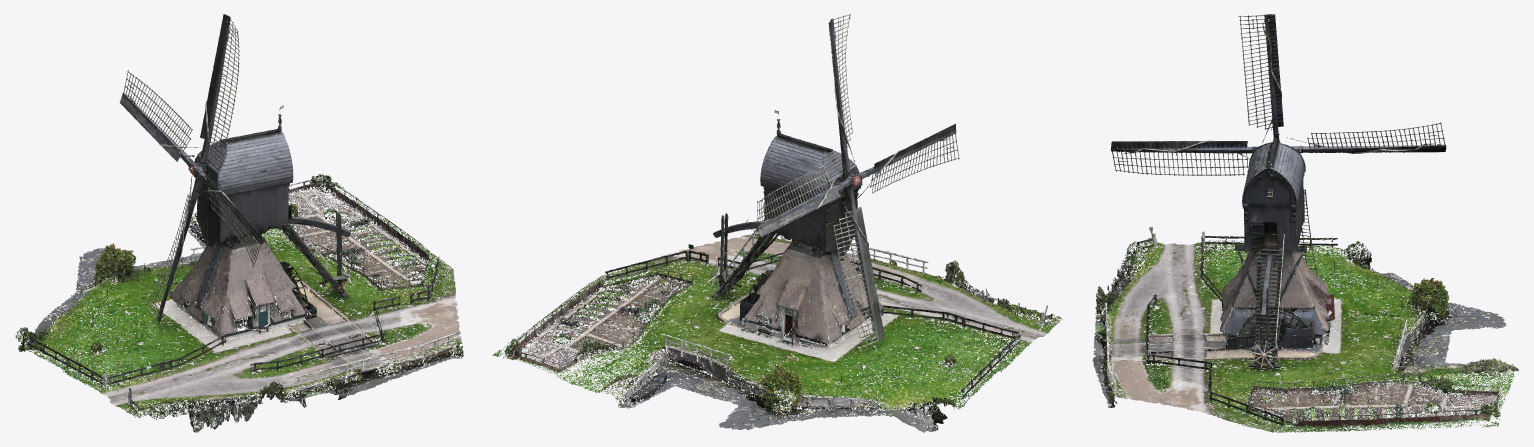
Rendered from westermolen.glb.
3 views of the same model, side by side, from view 1: azimuth 30°, elevation 25°; view 2: azimuth 150°, elevation 25°; view 3: azimuth 270°, elevation 25° (orthographic).
Visible parts, largest first — view 1: Base, Top, Sails; view 2: Base, Sails, Top; view 3: Base, Top, Sails.
Part boxes in pixels (x1,y1,x2,y2): Base: [15, 173, 463, 432]; Top: [196, 105, 353, 300]; Sails: [119, 14, 262, 322]; Base: [492, 156, 1063, 432]; Sails: [756, 14, 959, 346]; Top: [707, 110, 857, 302]; Base: [1092, 227, 1518, 432]; Top: [1236, 138, 1306, 369]; Sails: [1110, 14, 1446, 275].
Size of the model in its own units: 33.71 by 27.87 by 31.59.
32 materials, 32 textured.
